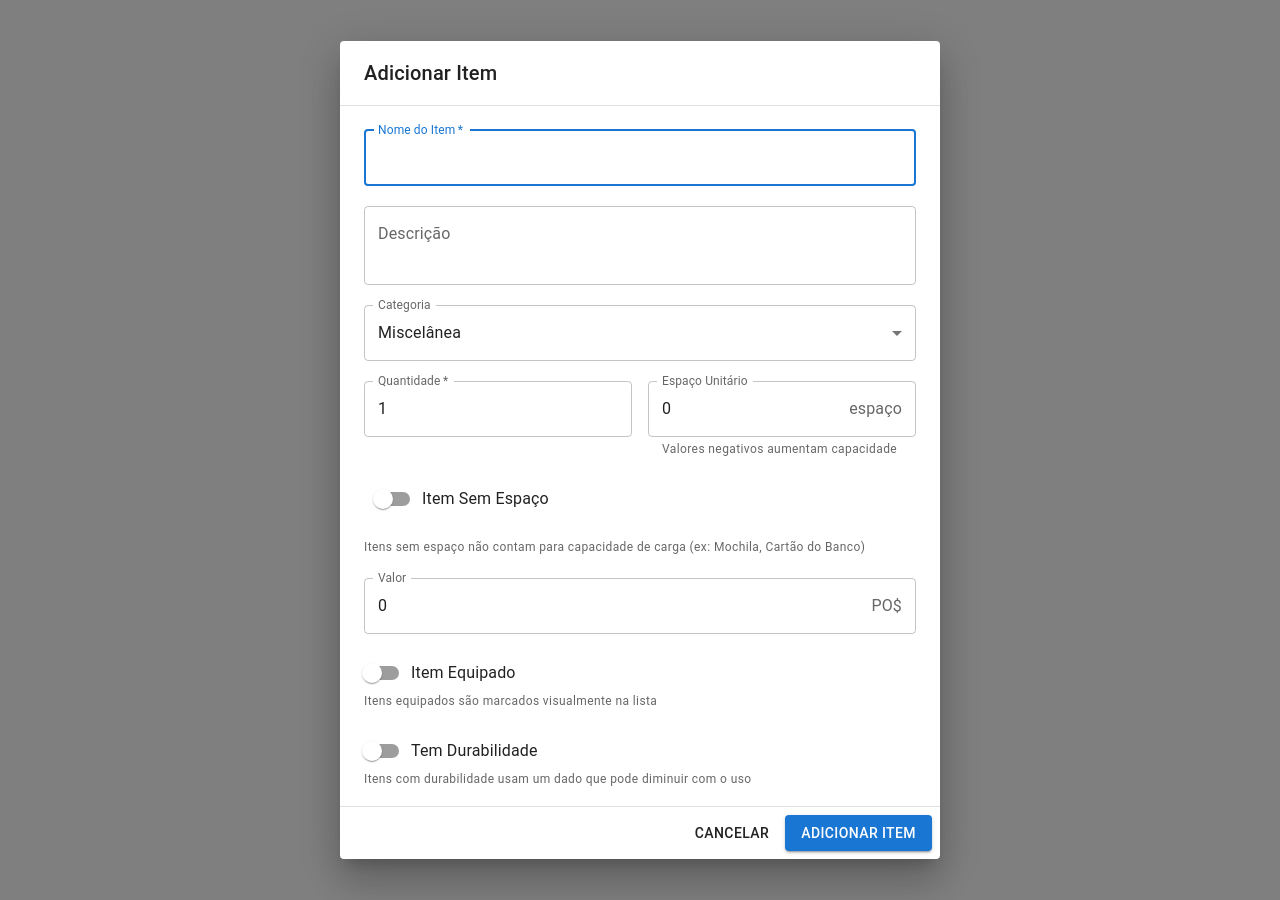
Test case: AddItemDialog › Validação › deve exibir erro quando nome está vazio
This screenshot has width=1280, height=900.
Click the button "Adicionar Item": (859, 833) top-left (785, 815), bottom-right (932, 851)
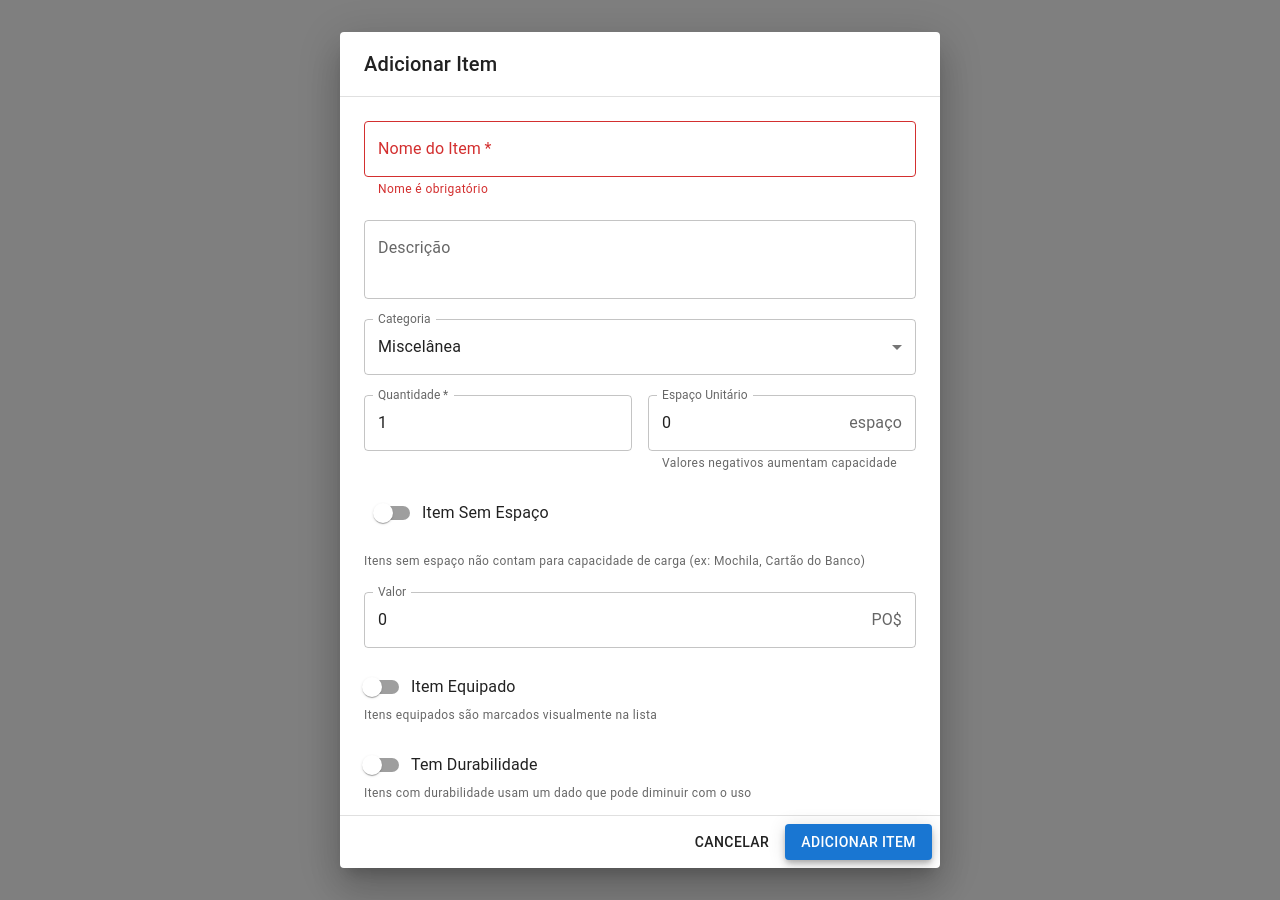
Expected: the text "Nome é obrigatório" is shown, top-left (378, 182), bottom-right (488, 196)
